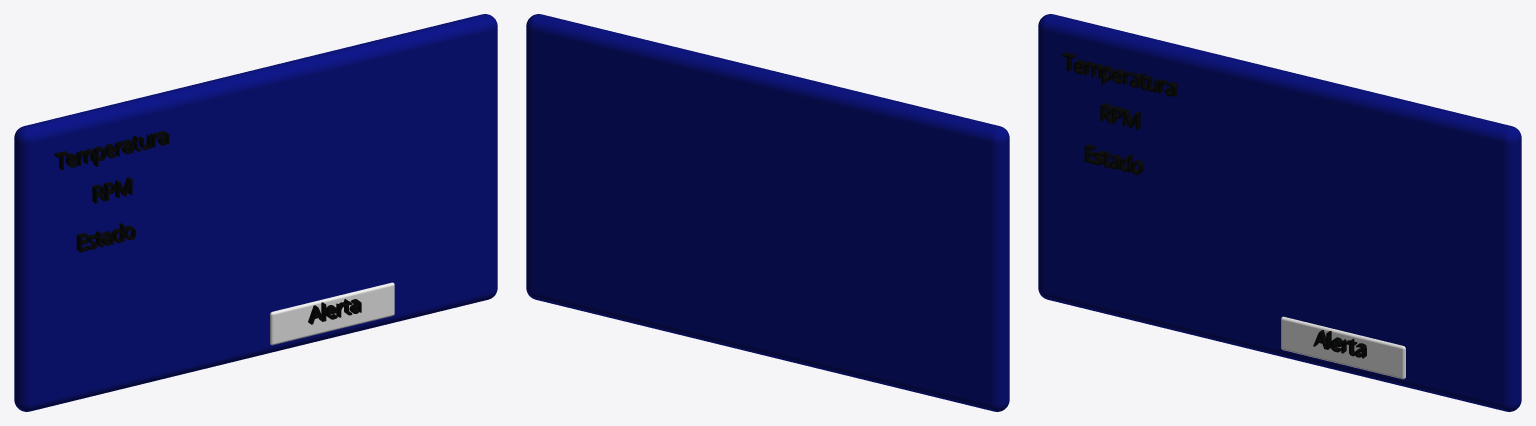
The model's file is Project_Name.glb.
3 views of the same model, side by side, from view 1: azimuth 30°, elevation 25°; view 2: azimuth 150°, elevation 25°; view 3: azimuth 330°, elevation 25° (orthographic).
Visible parts, largest first — view 1: Box, Box 1; view 2: Box; view 3: Box, Box 1.
Boxes of the visible parts, x1,y1,x2,y2 form: Box: (14,14,497,411); Box 1: (270,282,394,345); Box: (526,14,1009,411); Box: (1038,14,1521,411); Box 1: (1281,316,1405,379).
Size of what is drawn, in the model's own units: 0.177 by 0.1 by 0.0112.
